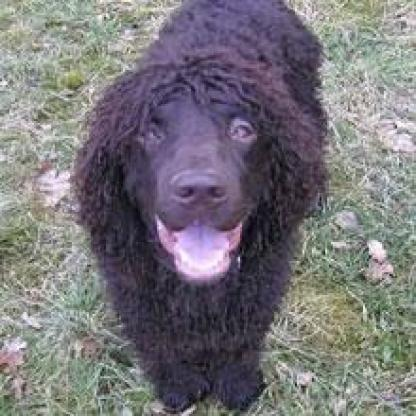Irish_water_spaniel: (70, 0, 337, 412)
